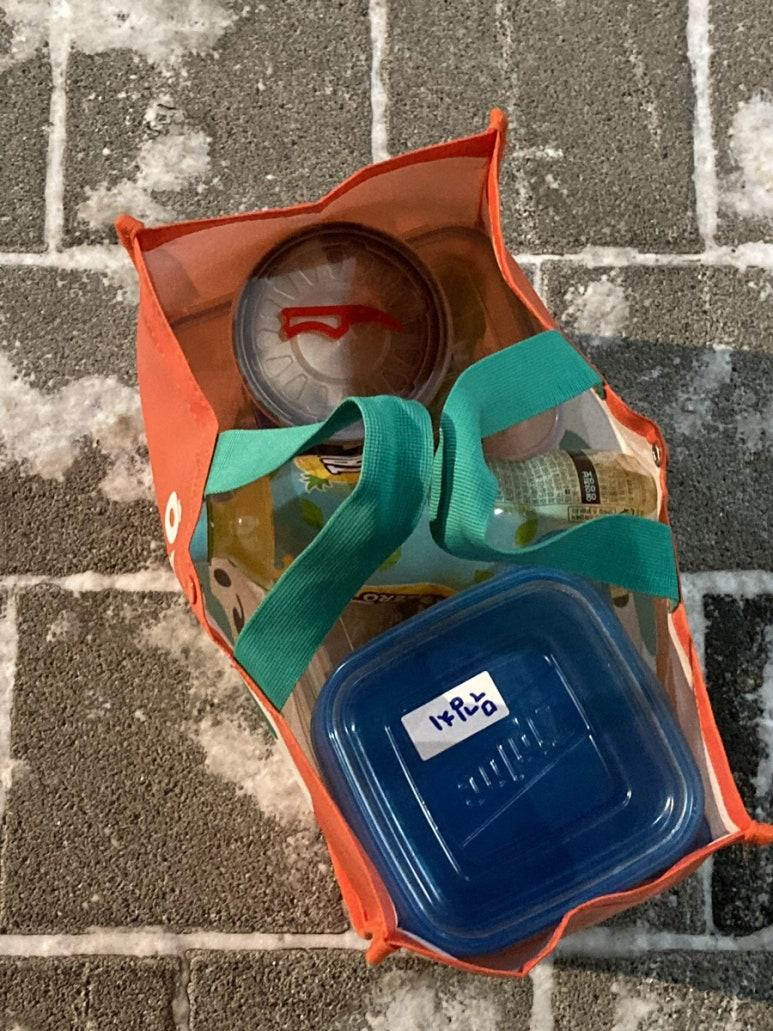cup: (233, 223, 447, 424)
